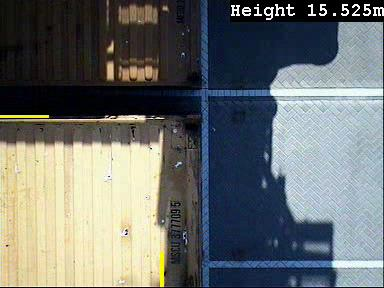groundmarker_2: (48, 146, 125, 202)
